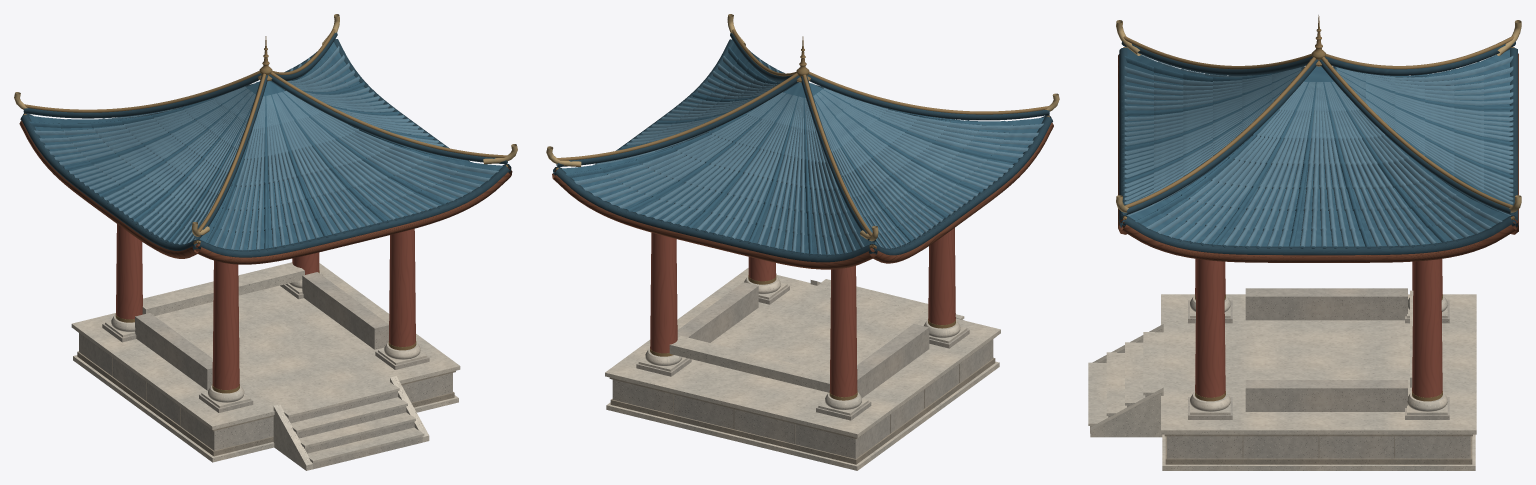
The picture shows the model from 3 angles, left to right: view 1: azimuth 30°, elevation 25°; view 2: azimuth 150°, elevation 25°; view 3: azimuth 270°, elevation 25°; orthographic projection. The views are drawn at different scales.
Parts seen in each view (by area): view 1: SquareCanopy_tileRound, SolidSummitPlinth_stonePale, SquareCanopy_glaze, SquareCanopy_shadowTile, OpenLookout_lacquer, SolidSummitPlinth_stone, StoneSeats_stone, SquareCanopy_heartwood, SquareCanopy_bronze, StoneSeats_stonePale, SolidSummitPlinth_carving, OpenLookout_stonePale (+2 smaller); view 2: SquareCanopy_tileRound, SolidSummitPlinth_stonePale, SquareCanopy_glaze, SquareCanopy_shadowTile, OpenLookout_lacquer, SolidSummitPlinth_stone, StoneSeats_stone, SquareCanopy_heartwood, StoneSeats_stonePale, SquareCanopy_bronze, SolidSummitPlinth_carving, OpenLookout_stonePale (+2 smaller); view 3: SquareCanopy_tileRound, SolidSummitPlinth_stonePale, SquareCanopy_glaze, SquareCanopy_shadowTile, StoneSeats_stone, OpenLookout_lacquer, SolidSummitPlinth_stone, SquareCanopy_bronze, SquareCanopy_heartwood, SolidSummitPlinth_carving, OpenLookout_stonePale, OpenLookout_stone (+1 smaller).
Part boxes in pixels (left/top/right/bottom): SquareCanopy_tileRound: left=34, top=46, right=498, bottom=250; SolidSummitPlinth_stonePale: left=71, top=263, right=460, bottom=470; SquareCanopy_glaze: left=29, top=42, right=503, bottom=250; SquareCanopy_shadowTile: left=20, top=32, right=511, bottom=257; OpenLookout_lacquer: left=116, top=224, right=415, bottom=389; SolidSummitPlinth_stone: left=79, top=333, right=452, bottom=469; StoneSeats_stone: left=135, top=272, right=388, bottom=390; SquareCanopy_heartwood: left=19, top=120, right=512, bottom=264; SquareCanopy_bronze: left=23, top=29, right=508, bottom=244; StoneSeats_stonePale: left=142, top=262, right=304, bottom=315; SolidSummitPlinth_carving: left=77, top=332, right=455, bottom=456; OpenLookout_stonePale: left=105, top=271, right=426, bottom=407; SquareCanopy_tileRound: left=574, top=56, right=1043, bottom=254; SolidSummitPlinth_stonePale: left=605, top=268, right=1000, bottom=470; SquareCanopy_glaze: left=562, top=42, right=1044, bottom=254; SquareCanopy_shadowTile: left=553, top=33, right=1052, bottom=262; OpenLookout_lacquer: left=650, top=228, right=955, bottom=397; SolidSummitPlinth_stone: left=612, top=339, right=993, bottom=458; StoneSeats_stone: left=677, top=282, right=929, bottom=397; SquareCanopy_heartwood: left=552, top=123, right=1053, bottom=269; StoneSeats_stonePale: left=669, top=336, right=829, bottom=392; SquareCanopy_bronze: left=556, top=29, right=1049, bottom=248; SolidSummitPlinth_carving: left=609, top=339, right=995, bottom=464; OpenLookout_stonePale: left=638, top=276, right=967, bottom=415; SquareCanopy_tileRound: left=1124, top=55, right=1513, bottom=246; SolidSummitPlinth_stonePale: left=1088, top=294, right=1476, bottom=470; SquareCanopy_glaze: left=1124, top=49, right=1513, bottom=246; SquareCanopy_shadowTile: left=1119, top=41, right=1517, bottom=255; StoneSeats_stone: left=1245, top=288, right=1407, bottom=411; OpenLookout_lacquer: left=1195, top=259, right=1442, bottom=397; SolidSummitPlinth_stone: left=1090, top=395, right=1470, bottom=458; SquareCanopy_bronze: left=1123, top=15, right=1514, bottom=219; SquareCanopy_heartwood: left=1118, top=53, right=1518, bottom=262; SolidSummitPlinth_carving: left=1164, top=434, right=1472, bottom=464; OpenLookout_stonePale: left=1190, top=295, right=1447, bottom=414; OpenLookout_stone: left=1188, top=300, right=1449, bottom=419.
Bounding box in the file's own units: 6.88 × 7.01 × 7.07.
Materials: 12 (12 with a texture image).
